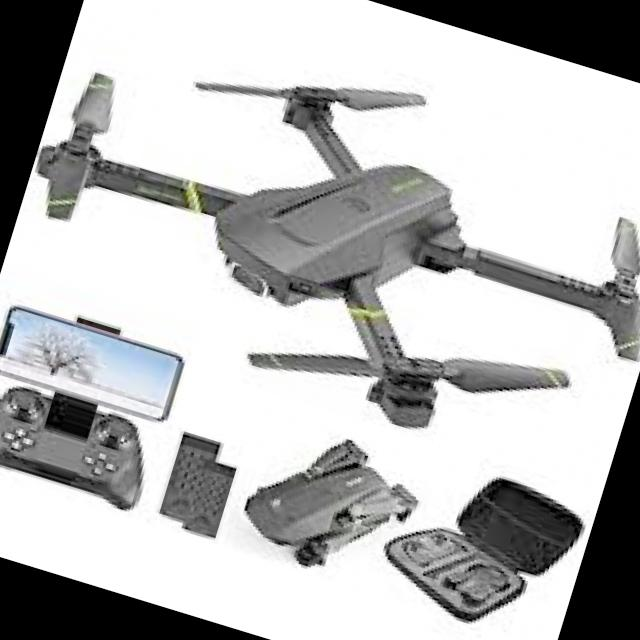drone: (0, 0, 640, 491)
